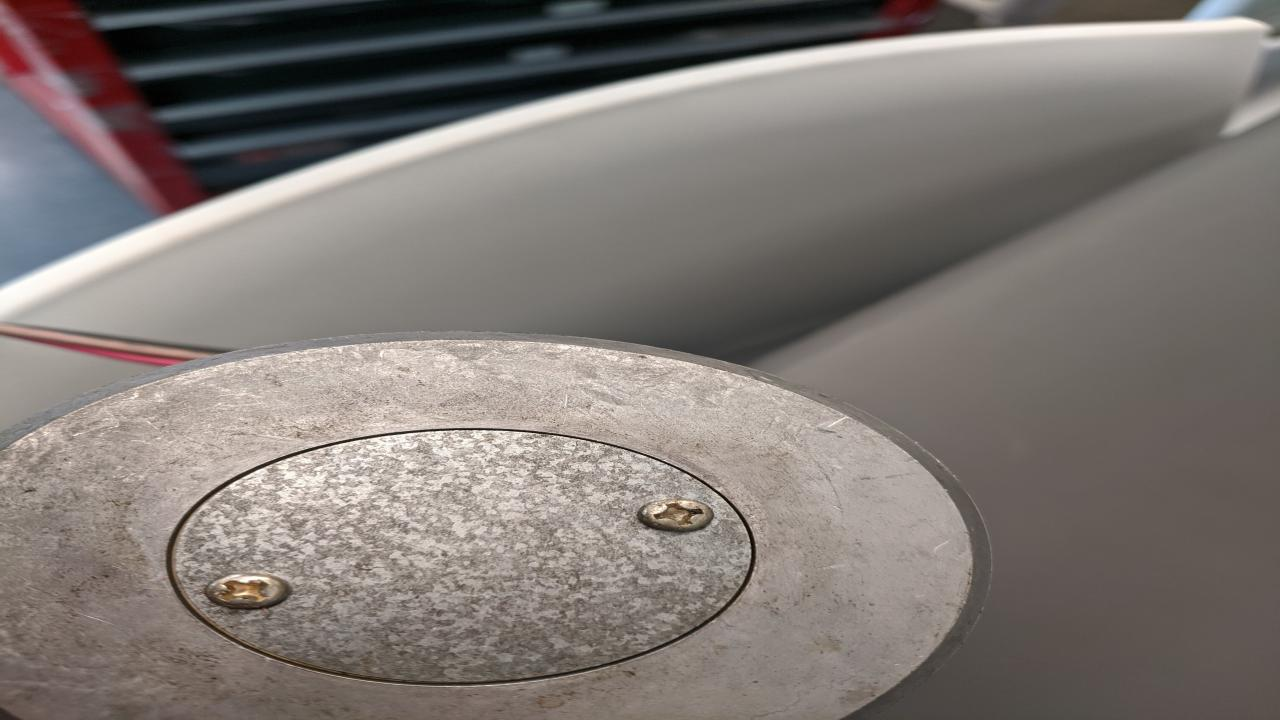CRS: (208, 572, 290, 609), (635, 500, 717, 531)
